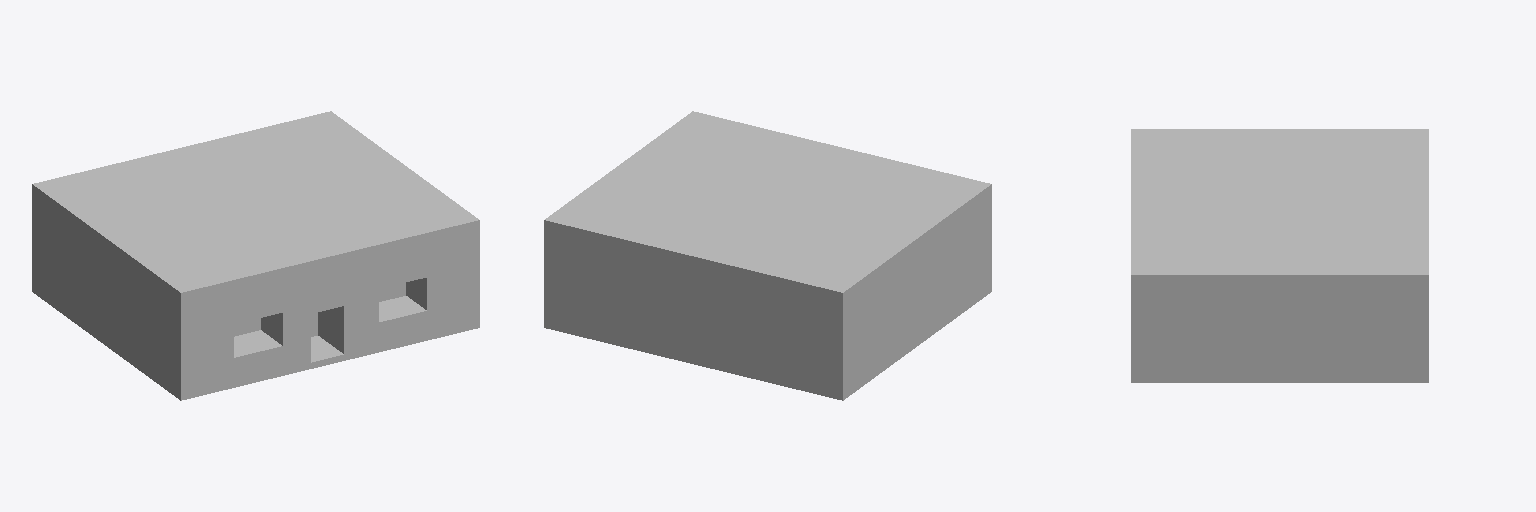
File: house34.obj
The picture shows the model from 3 angles: view 1: azimuth 30°, elevation 25°; view 2: azimuth 150°, elevation 25°; view 3: azimuth 270°, elevation 25°; orthographic projection.
Visible parts, largest first — view 1: 立方体.043; view 2: 立方体.043; view 3: 立方体.043.
Boxes of the visible parts, x1,y1,x2,y2 form: 立方体.043: [32, 111, 479, 400]; 立方体.043: [544, 111, 991, 400]; 立方体.043: [1131, 129, 1428, 382].
Bounding box in the file's own units: 58 × 20 × 50.